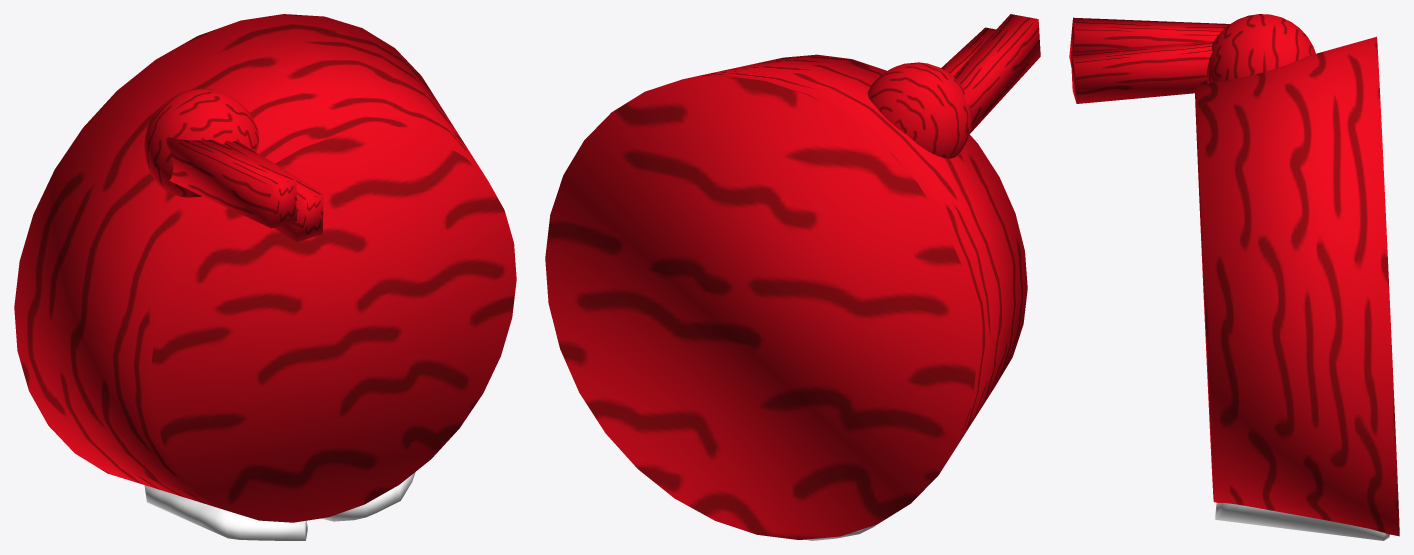
The model's file is item-bandana.glb.
3 views of the same model, side by side, from view 1: azimuth 30°, elevation 25°; view 2: azimuth 150°, elevation 25°; view 3: azimuth 270°, elevation 25° (orthographic). The views are drawn at different scales.
Size of the model in its own units: 0.0154 by 0.0155 by 0.0101.
Materials: 2 (1 with a texture image).
